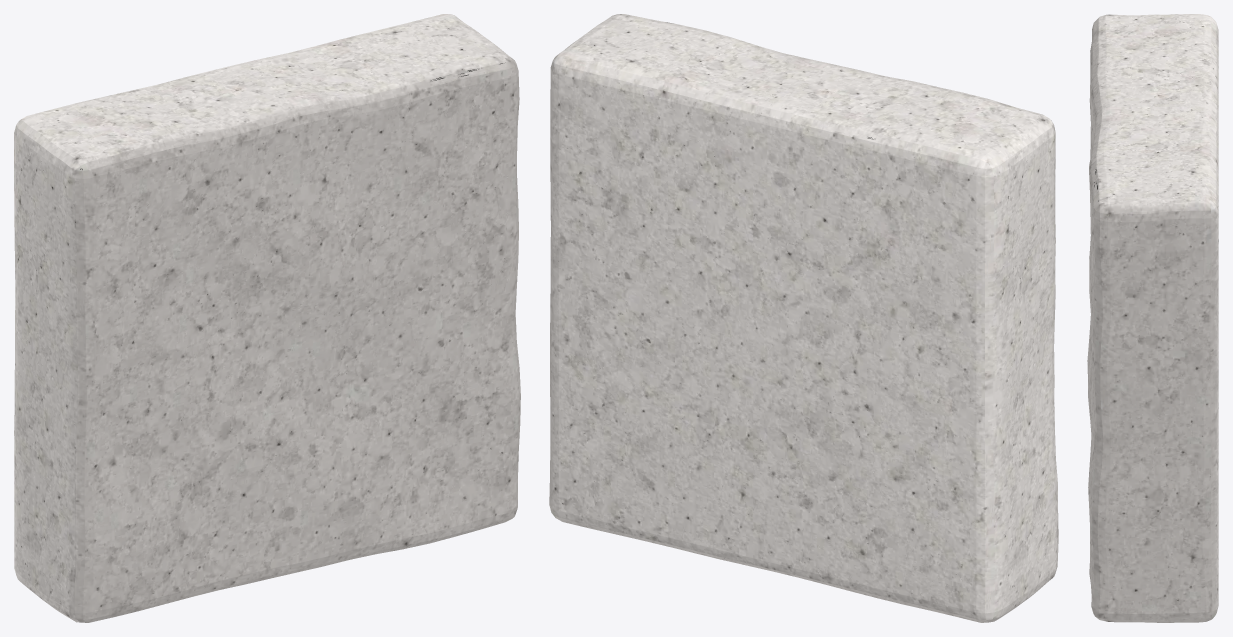
The model's file is tak-upright-white.glb.
3 renders of one model, left to right at view 1: azimuth 30°, elevation 25°; view 2: azimuth 150°, elevation 25°; view 3: azimuth 270°, elevation 25°, orthographic. The views are drawn at different scales.
Visible parts, largest first — view 1: tak-upright-white; view 2: tak-upright-white; view 3: tak-upright-white.
Boxes of the visible parts, x1,y1,x2,y2 form: tak-upright-white: [14, 14, 520, 622]; tak-upright-white: [549, 14, 1058, 622]; tak-upright-white: [1087, 14, 1218, 622].
Size of the model in its own units: 0.0283 by 0.0283 by 0.0079.
Materials: 1 (1 with a texture image).
